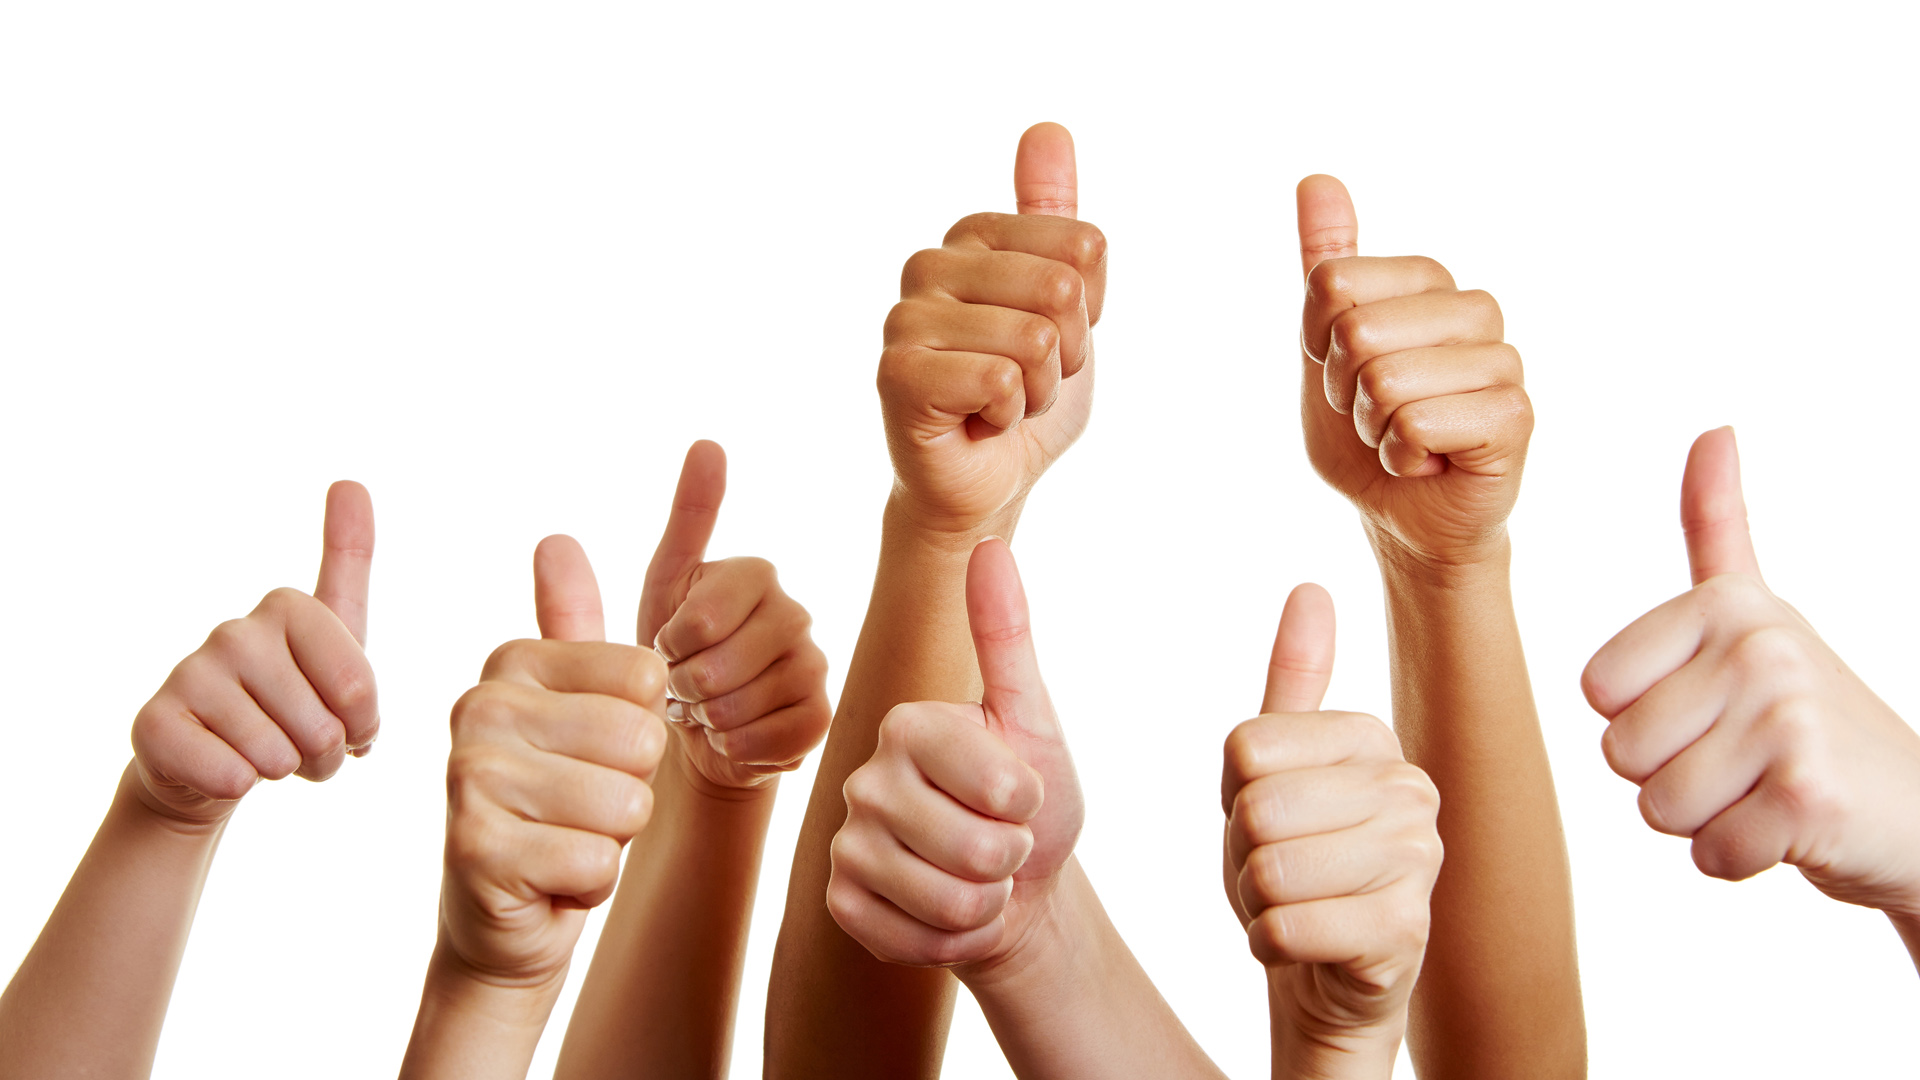thumbsup: (1578, 426, 1828, 884), (823, 531, 1046, 967), (1218, 582, 1447, 965), (127, 477, 378, 822), (444, 533, 669, 916), (1294, 171, 1534, 481), (876, 123, 1106, 440), (649, 439, 833, 767)
